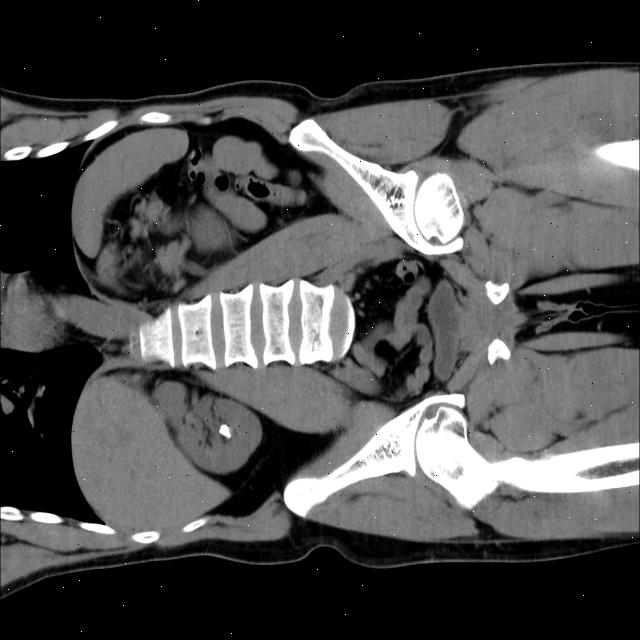kidneystone: (219, 422, 231, 439)
